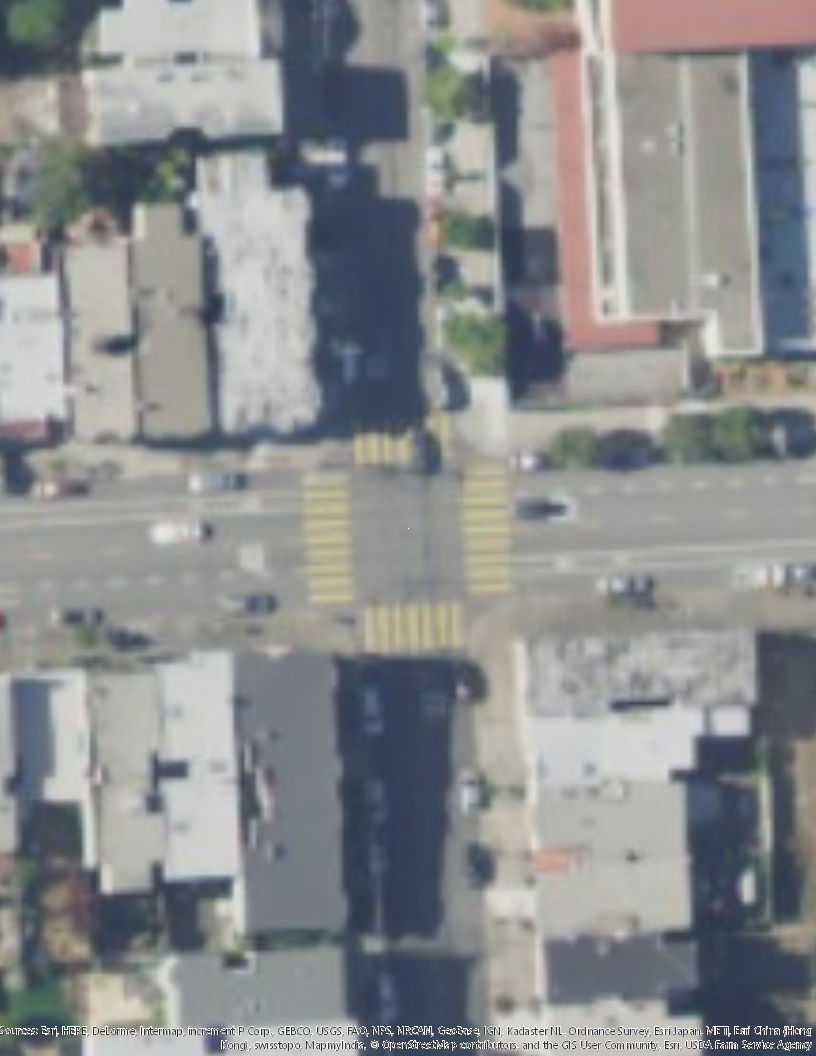zebracross: (302, 471, 356, 602), (461, 465, 512, 593), (351, 416, 451, 471), (362, 605, 462, 653)
